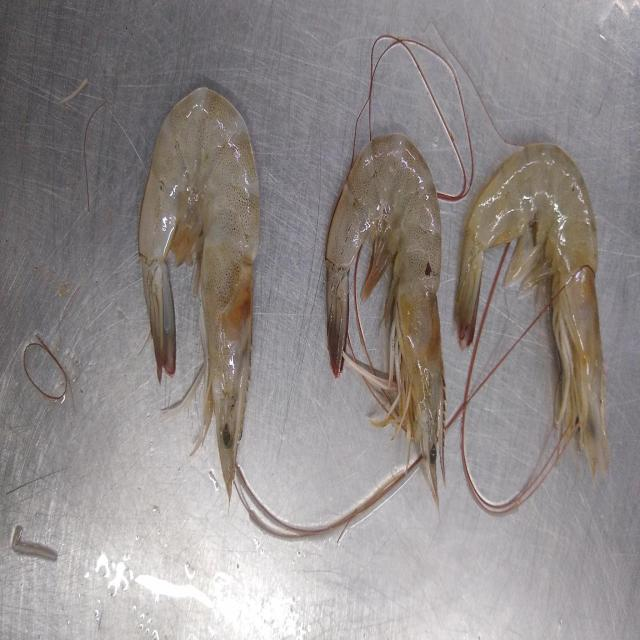shrimp: (455, 144, 609, 476), (139, 89, 260, 498), (326, 133, 445, 502)
